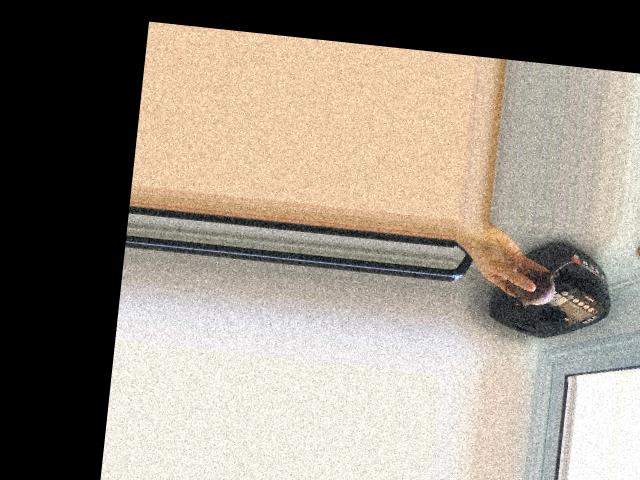beet: (504, 253, 573, 311)
